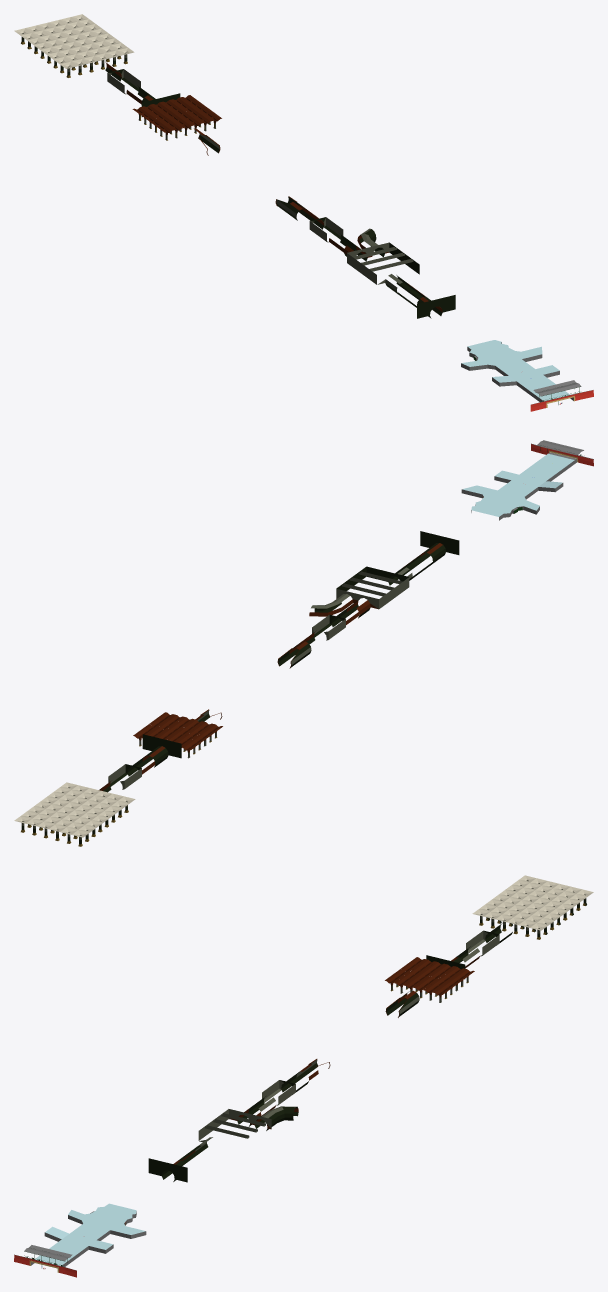
Rendered from podchod a tunel.fbx.
The picture shows the model from 3 angles, top to bottom: view 1: azimuth 30°, elevation 25°; view 2: azimuth 150°, elevation 25°; view 3: azimuth 330°, elevation 25°; orthographic projection.
Visible parts, largest first — view 1: tunel místnost, podchod levá strana, podchod levá strana.001, podchod entry, tunel segment 2, tunel segment 2.001, tunel entry; view 2: tunel místnost, podchod levá strana, podchod levá strana.001, tunel entry.001, tunel entry, tunel segment 2, tunel segment 2.001, podchod entry; view 3: podchod levá strana.001, tunel místnost, podchod levá strana, tunel segment 2, podchod entry, tunel segment 2.001, tunel entry.
Boxes of the visible parts, x1,y1,x2,y2 form: tunel místnost: (344,228,419,293); podchod levá strana: (461,343,556,401); podchod levá strana.001: (482,340,573,400); podchod entry: (530,380,593,411); tunel segment 2: (306,209,356,252); tunel segment 2.001: (105,62,150,104); tunel entry: (417,295,455,318); tunel místnost: (309,566,412,618); podchod levá strana: (485,455,576,520); podchod levá strana.001: (461,452,563,513); tunel entry.001: (142,734,181,767); tunel entry: (420,531,459,564); tunel segment 2: (299,607,359,645); tunel segment 2.001: (99,756,155,792); podchod entry: (531,440,593,466); podchod levá strana.001: (48,1207,146,1266); tunel místnost: (195,1106,298,1155); podchod levá strana: (31,1203,122,1265); tunel segment 2: (248,1072,308,1116); podchod entry: (14,1245,76,1277); tunel segment 2.001: (456,923,512,968); tunel entry: (148,1158,187,1182).
Bounding box in the file's own units: 5374 × 1262 × 61525.
